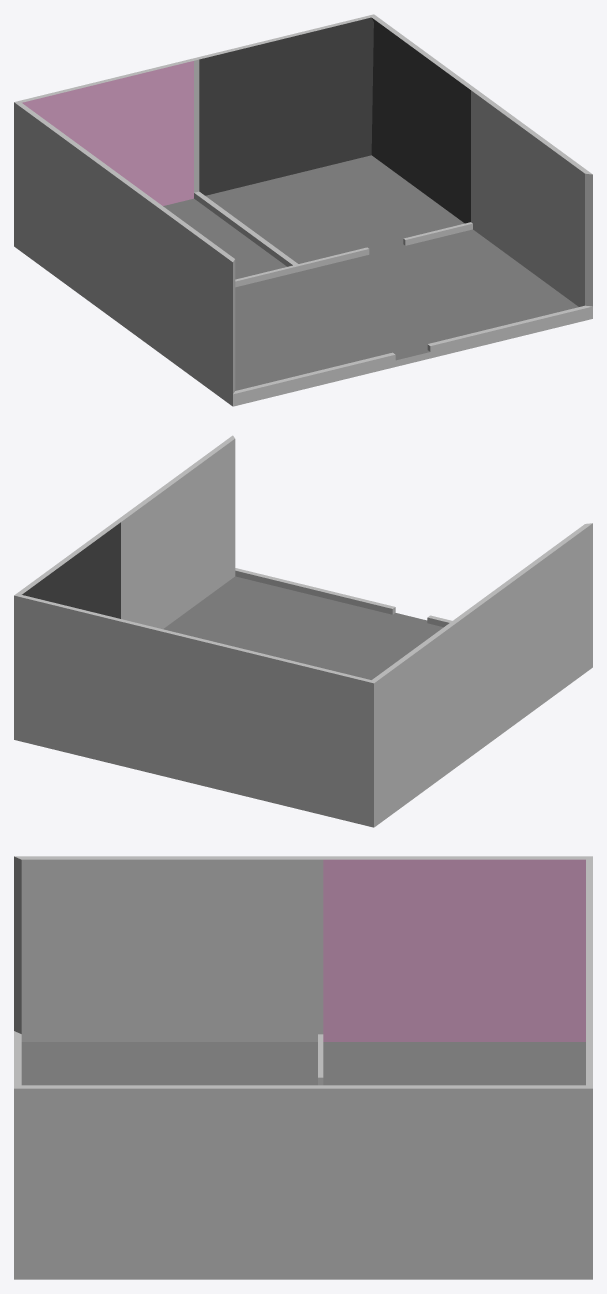
The model's file is flat layout.fbx.
The picture shows the model from 3 angles, top to bottom: view 1: azimuth 30°, elevation 25°; view 2: azimuth 150°, elevation 25°; view 3: azimuth 270°, elevation 25°; orthographic projection. The views are drawn at different scales.
Visible parts, largest first — view 1: Flat; view 2: Flat; view 3: Flat.
Boxes of the visible parts, x1=… form: Flat: x1=14, y1=14, x2=592, y2=406; Flat: x1=14, y1=435, x2=592, y2=827; Flat: x1=14, y1=856, x2=592, y2=1279.
Bounding box in the file's own units: 838 × 321 × 883.
